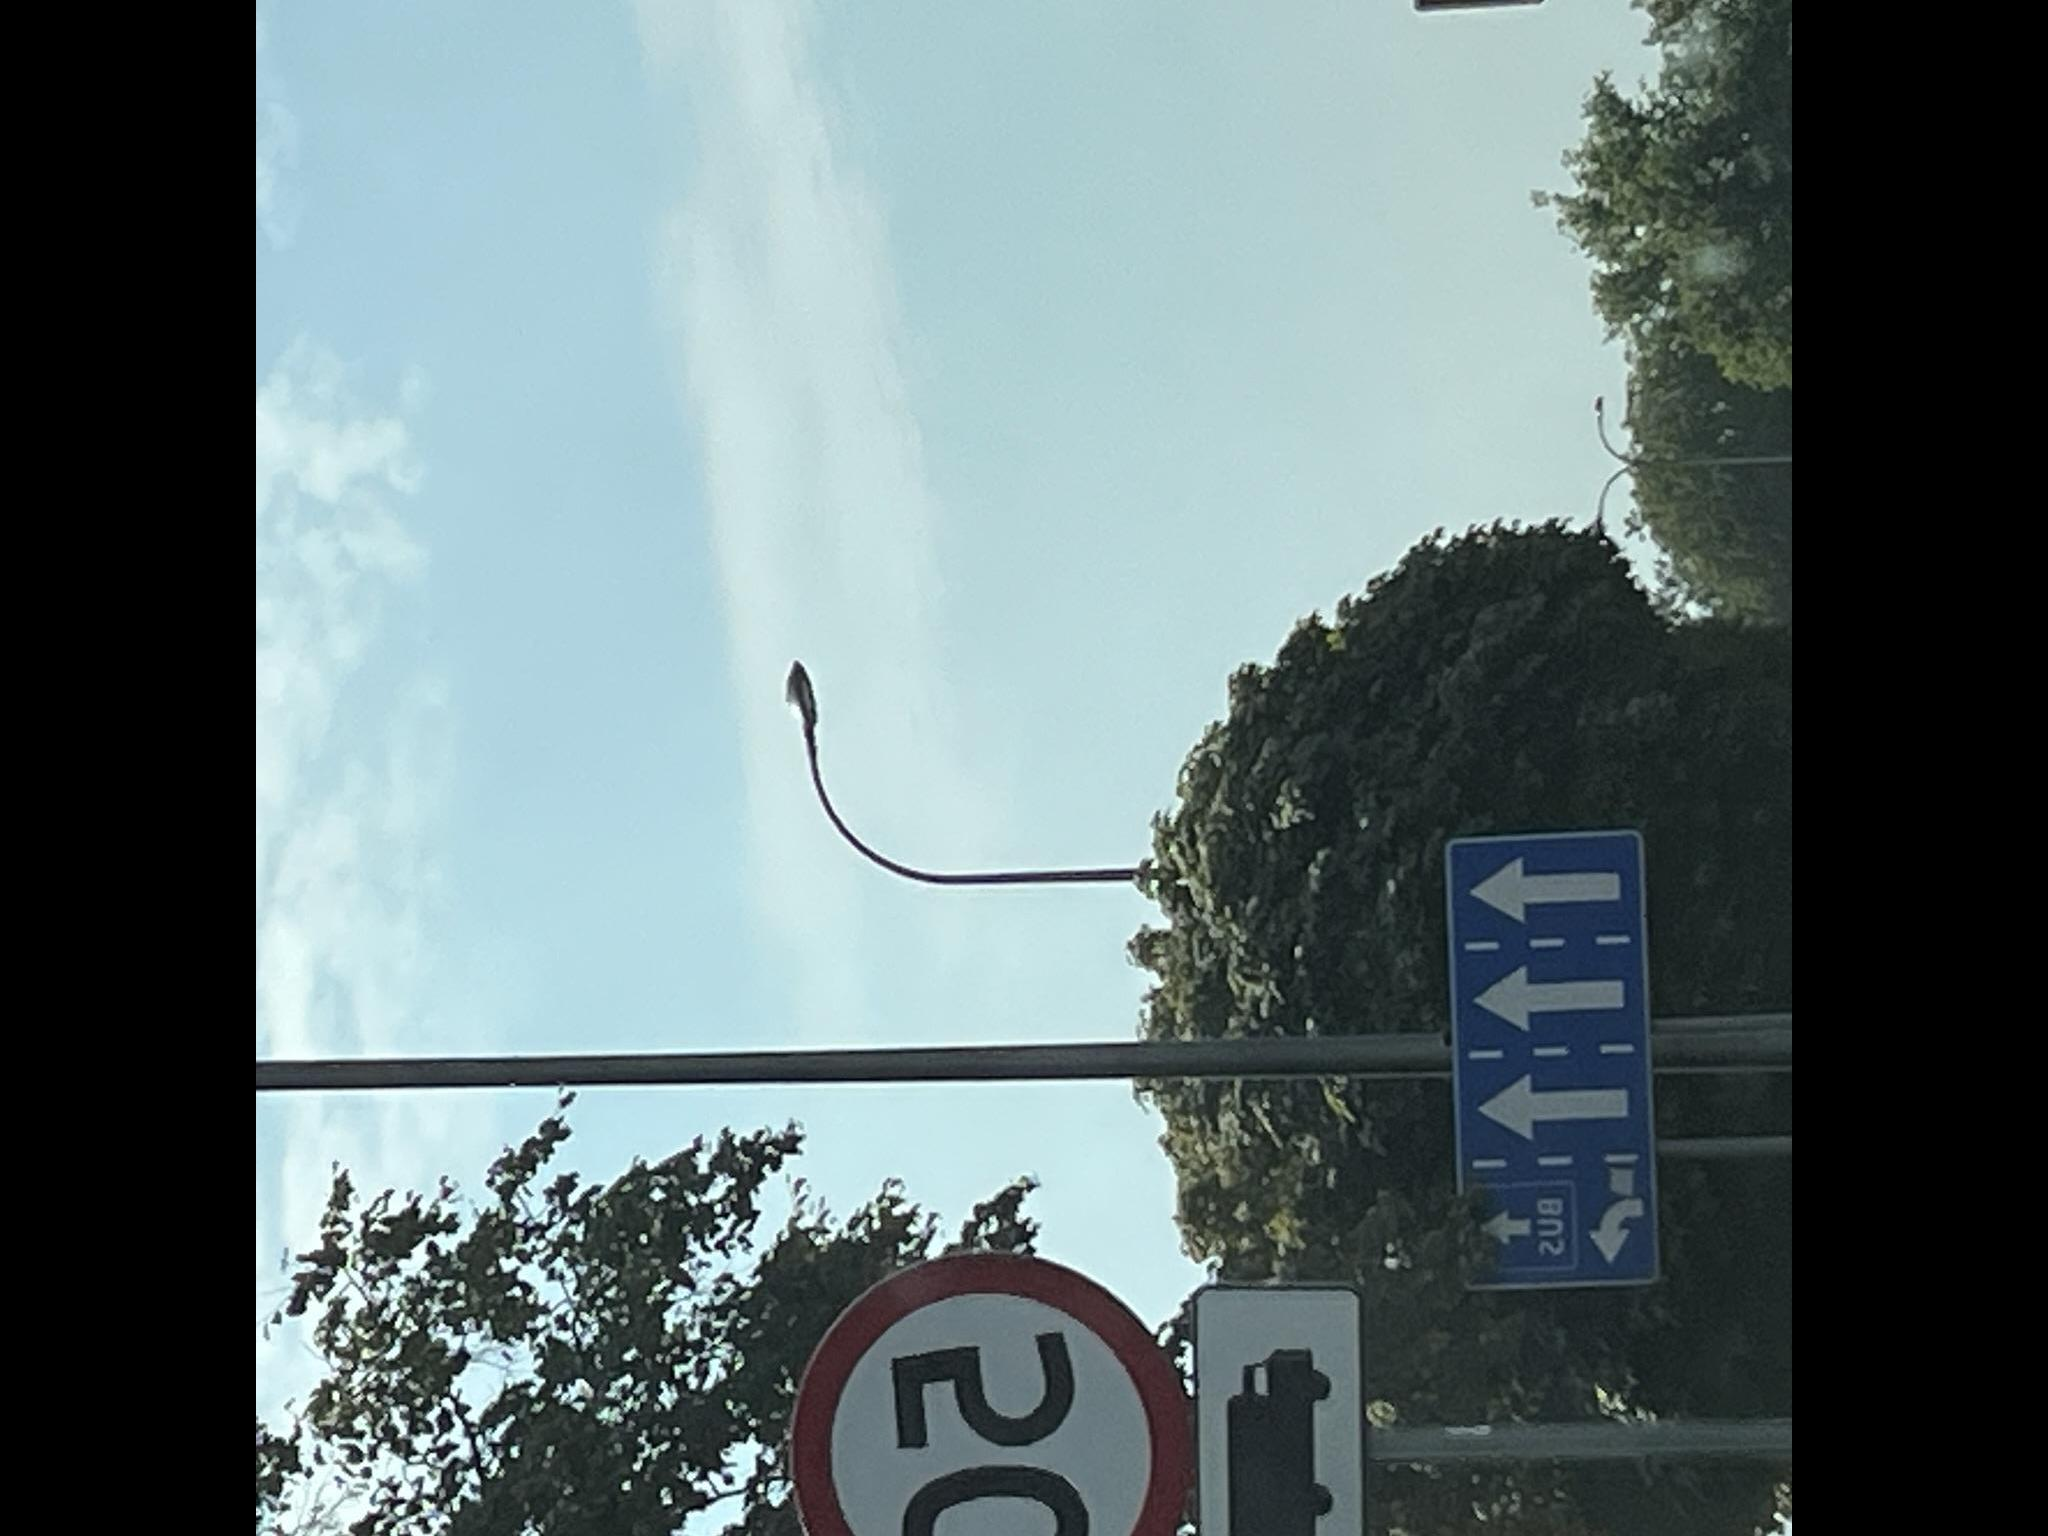other: (1448, 841, 1651, 1283), (1205, 1286, 1364, 1536)
prohibitory: (785, 1242, 1197, 1536)
